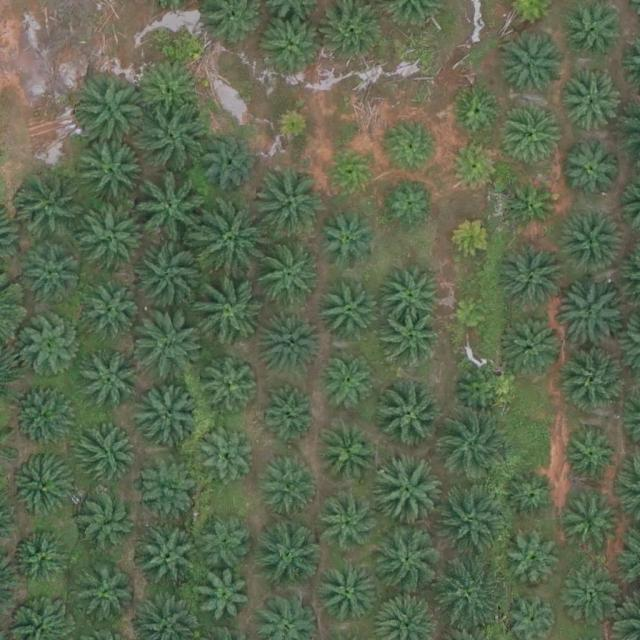Healthy: (497, 241, 568, 312), (439, 486, 510, 557), (134, 241, 205, 312), (136, 176, 207, 247), (441, 410, 511, 481), (434, 560, 504, 631), (375, 379, 445, 450), (370, 459, 441, 529), (372, 525, 442, 596), (192, 276, 262, 347), (134, 315, 204, 386), (559, 282, 629, 352), (256, 168, 326, 238), (195, 208, 265, 278), (140, 103, 210, 173), (77, 78, 147, 148), (79, 197, 149, 267), (12, 174, 82, 244), (559, 211, 622, 274), (567, 351, 630, 414), (505, 314, 568, 377), (380, 264, 443, 327), (314, 209, 377, 272), (317, 564, 380, 627), (257, 527, 320, 590), (200, 353, 263, 416), (140, 530, 203, 593), (499, 36, 562, 99), (139, 59, 202, 122), (319, 282, 381, 345), (319, 422, 381, 485), (320, 495, 382, 558), (260, 244, 322, 307), (257, 316, 320, 378), (258, 453, 320, 516), (138, 387, 200, 450), (135, 457, 198, 519), (79, 351, 141, 414), (74, 426, 136, 489), (77, 488, 139, 551), (17, 319, 79, 382), (15, 385, 77, 448), (13, 458, 75, 521), (563, 66, 625, 129), (559, 143, 621, 206), (499, 104, 561, 167), (264, 15, 326, 78), (82, 143, 144, 206), (567, 502, 622, 557), (564, 567, 619, 622), (504, 472, 559, 527), (508, 536, 563, 591), (454, 367, 509, 422), (386, 314, 441, 369), (321, 358, 376, 413), (261, 386, 316, 441), (199, 428, 254, 483), (199, 516, 254, 571), (197, 571, 252, 626), (79, 568, 134, 623), (14, 536, 69, 591), (323, 145, 378, 200), (386, 119, 441, 174), (386, 176, 441, 231), (447, 139, 502, 194), (452, 83, 507, 138), (206, 134, 261, 189), (565, 430, 619, 485), (86, 285, 140, 340), (25, 251, 79, 306), (505, 176, 559, 231)
Yellow: (450, 215, 497, 262), (453, 295, 492, 335), (272, 108, 311, 147)
